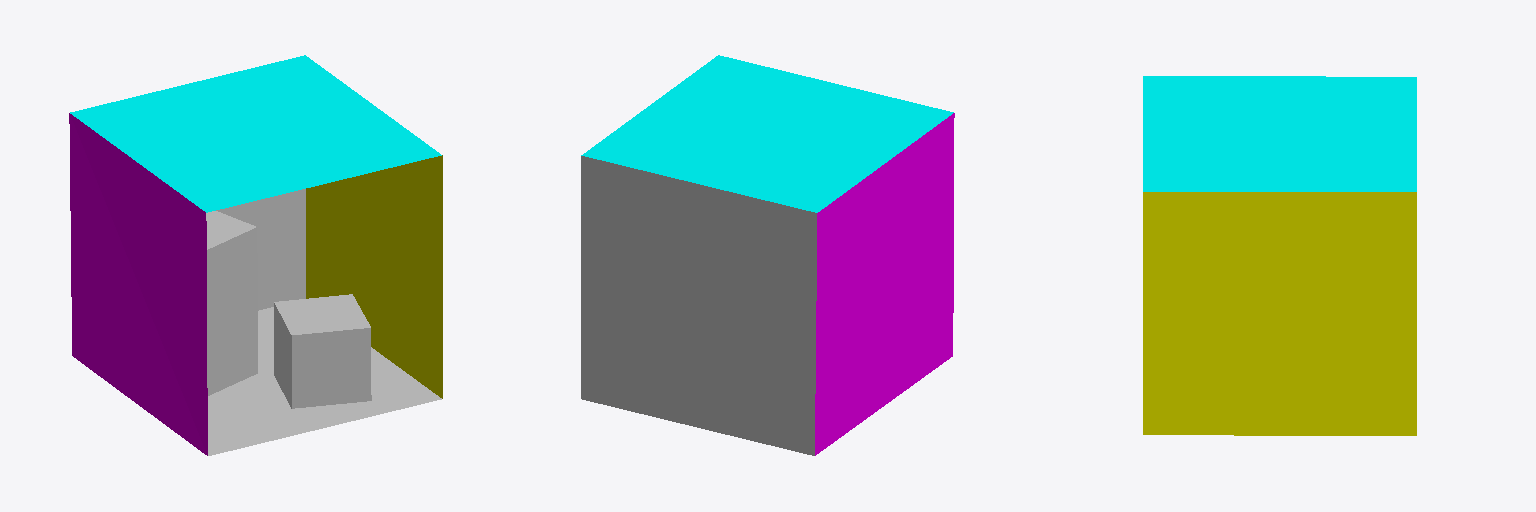
File: CBUltimate.obj
The picture shows the model from 3 angles: view 1: azimuth 30°, elevation 25°; view 2: azimuth 150°, elevation 25°; view 3: azimuth 270°, elevation 25°; orthographic projection.
Parts seen in each view (by area): view 1: left_wall, ceiling, right_wall, floor, short_box, tall_box, back_wall; view 2: back_wall, left_wall, ceiling; view 3: right_wall, ceiling.
Part boxes in pixels (x1,y1,x2,y2): left_wall: (69, 113, 207, 455); ceiling: (70, 55, 441, 212); right_wall: (306, 155, 442, 398); floor: (208, 307, 441, 455); short_box: (274, 294, 371, 408); tall_box: (206, 211, 257, 395); back_wall: (216, 189, 305, 310); back_wall: (581, 156, 816, 455); left_wall: (815, 113, 954, 455); ceiling: (581, 55, 953, 212); right_wall: (1143, 192, 1416, 435); ceiling: (1143, 76, 1416, 191).
Bounding box in the file's own units: 5.56 × 5.49 × 5.6.